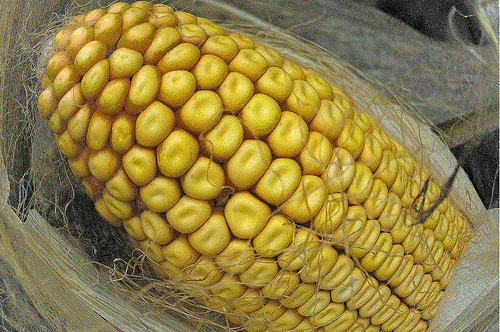corn: (0, 0, 498, 331)
